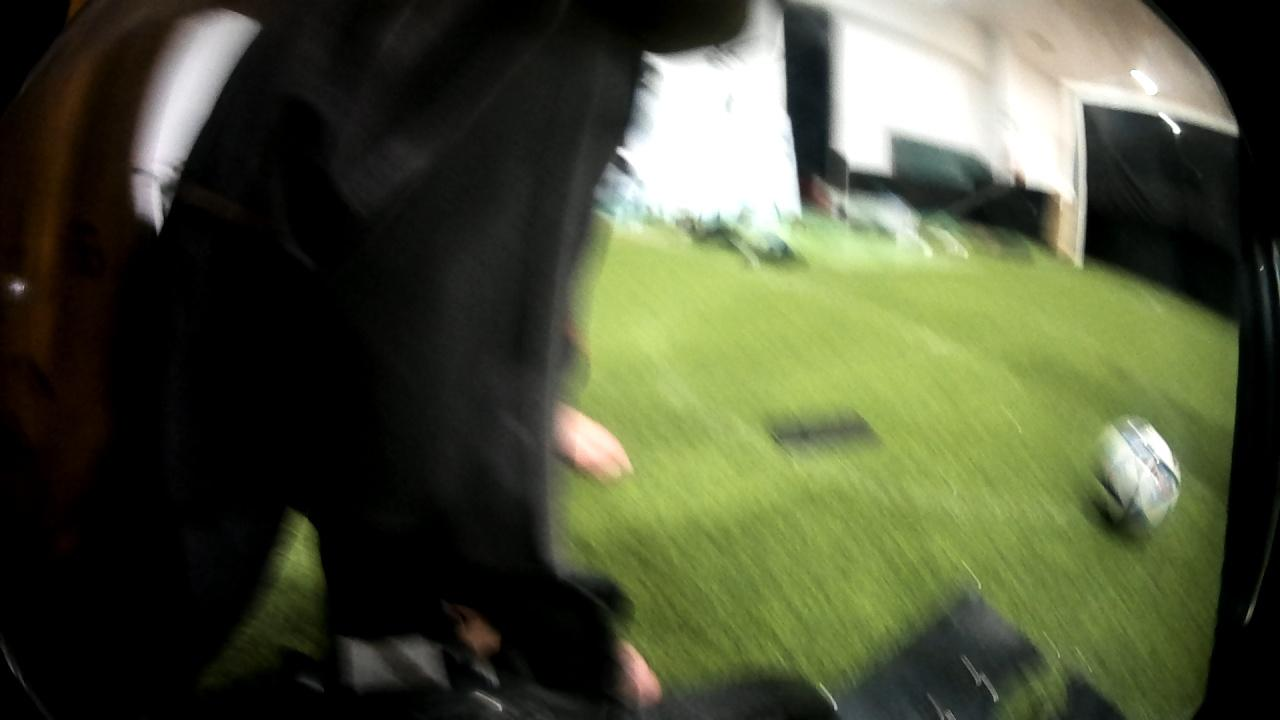ball: (1083, 403, 1187, 543)
